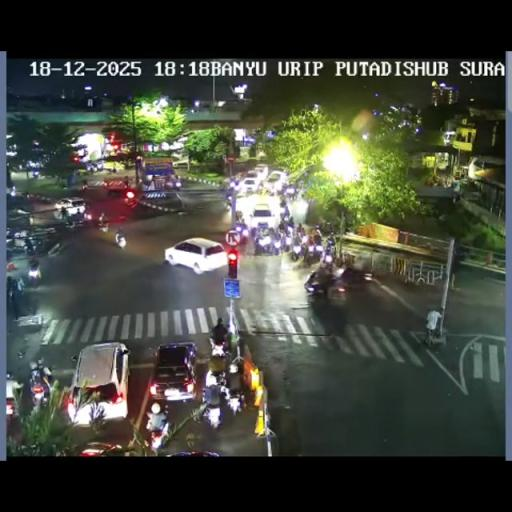Car: (66, 342, 130, 424), (148, 342, 198, 402), (162, 236, 228, 274), (306, 265, 370, 300), (250, 202, 276, 230), (73, 441, 123, 455), (6, 375, 22, 418), (54, 197, 86, 216), (103, 178, 133, 196), (265, 170, 287, 192), (238, 177, 260, 193), (253, 163, 269, 179)
Motorcycle: (29, 358, 53, 404), (145, 406, 169, 450), (200, 394, 223, 429), (253, 227, 277, 255), (203, 366, 227, 394), (425, 310, 442, 346), (208, 330, 230, 356), (8, 278, 22, 318), (226, 386, 244, 416), (302, 240, 320, 266), (26, 263, 42, 287), (232, 221, 249, 242), (320, 245, 334, 269), (315, 220, 336, 234), (290, 239, 302, 261), (64, 210, 77, 228), (124, 189, 137, 207), (280, 233, 292, 252), (114, 231, 126, 249), (334, 252, 346, 270), (24, 240, 38, 255), (280, 207, 290, 225), (6, 243, 15, 262), (81, 209, 93, 223), (452, 188, 462, 203), (171, 177, 182, 190), (228, 360, 238, 374), (98, 219, 108, 232), (326, 236, 336, 249), (224, 194, 232, 210), (313, 230, 322, 244), (290, 187, 298, 202), (300, 233, 308, 245), (279, 197, 287, 209), (297, 179, 304, 191), (106, 165, 116, 173), (235, 210, 243, 220), (88, 164, 94, 174), (10, 188, 16, 197), (32, 170, 38, 178), (82, 183, 87, 192)
